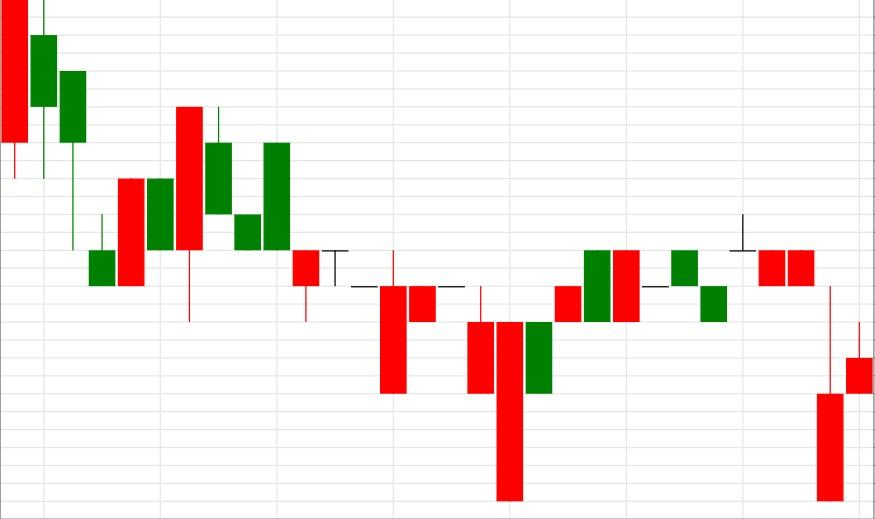bearish_engulfing_fall: (495, 249, 612, 502)
bullish_engulfing_rise: (0, 0, 146, 287)
